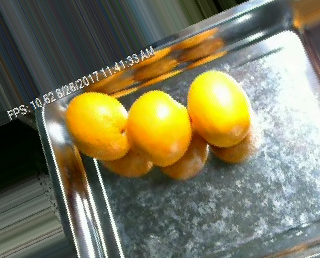Orange: (126, 88, 192, 169), (187, 69, 253, 149), (65, 91, 131, 162)
